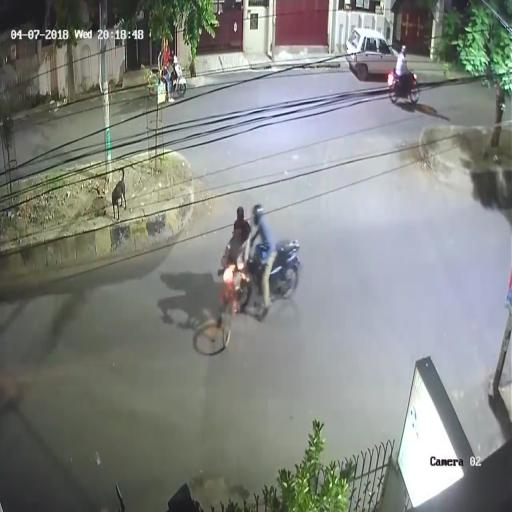小汽车: (343, 22, 400, 82)
自行车: (150, 42, 188, 98), (389, 46, 419, 108)
自行车撞自行车: (218, 201, 302, 360)
